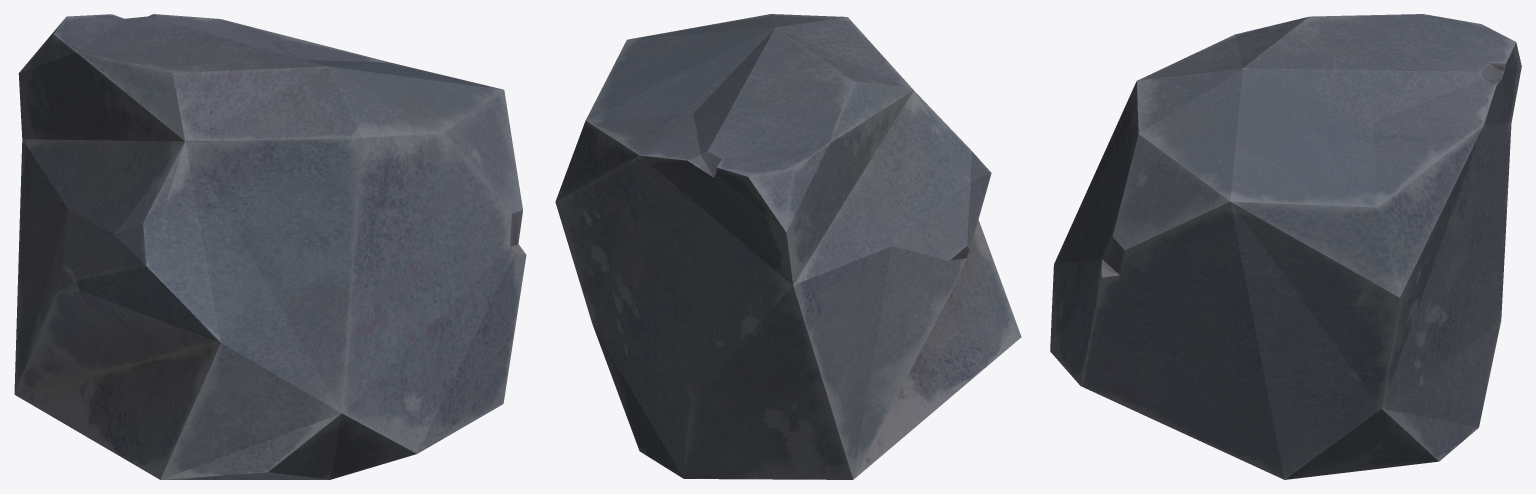
The model's file is Rock7.fbx.
3 renders of one model, left to right at view 1: azimuth 30°, elevation 25°; view 2: azimuth 150°, elevation 25°; view 3: azimuth 270°, elevation 25°, orthographic. The views are drawn at different scales.
Parts seen in each view (by area): view 1: stylized_rock_53; view 2: stylized_rock_53; view 3: stylized_rock_53.
Part boxes in pixels (x1,y1,x2,y2): stylized_rock_53: (14,14,526,479); stylized_rock_53: (555,14,1021,479); stylized_rock_53: (1050,14,1521,479).
Bounding box in the file's own units: 3189 × 3003 × 3441.
Materials: 1 (1 with a texture image).
